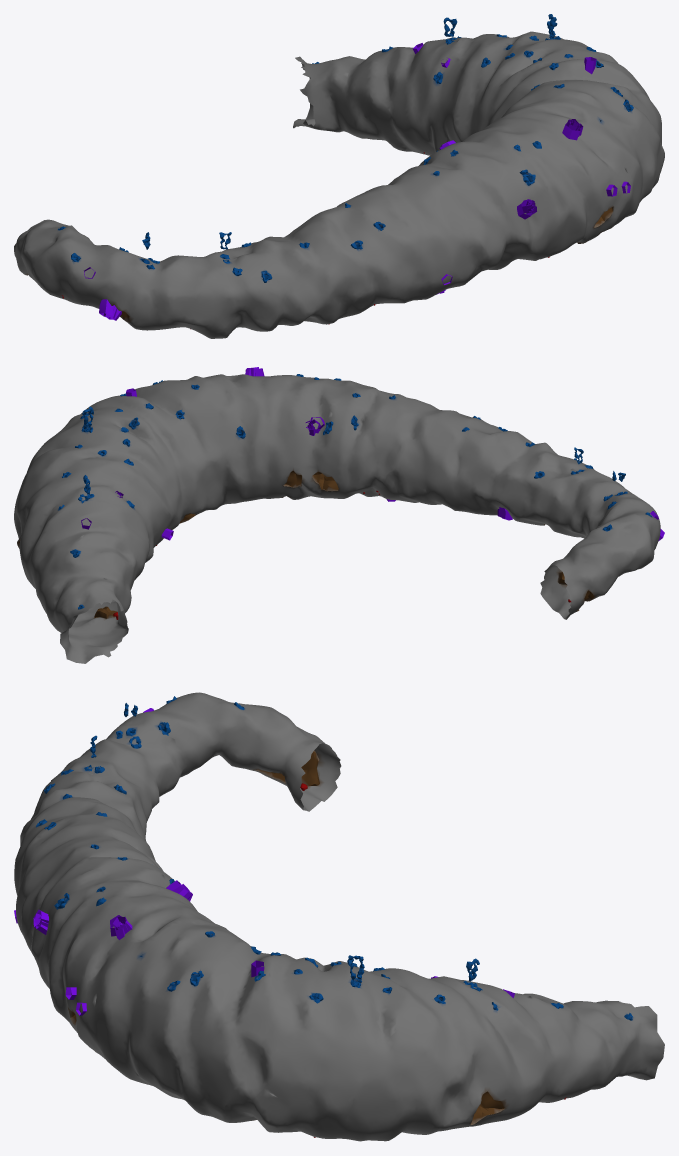
Rendered from M_Cave_Unfinished_CO.fbx.
The picture shows the model from 3 angles, top to bottom: view 1: azimuth 30°, elevation 25°; view 2: azimuth 150°, elevation 25°; view 3: azimuth 270°, elevation 25°; orthographic projection. The views are drawn at different scales.
Visible parts, largest first — view 1: merge2; view 2: merge2; view 3: merge2.
Part boxes in pixels (left/top/right/bottom): merge2: left=14, top=14, right=664, bottom=338; merge2: left=14, top=367, right=664, bottom=663; merge2: left=14, top=692, right=664, bottom=1141.
Size of the model in its own units: 268 by 66.84 by 207.
